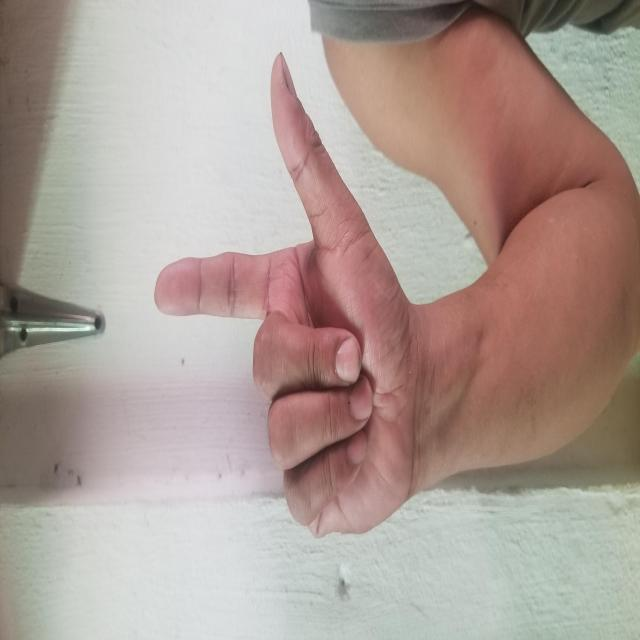L: (102, 153, 590, 410)
